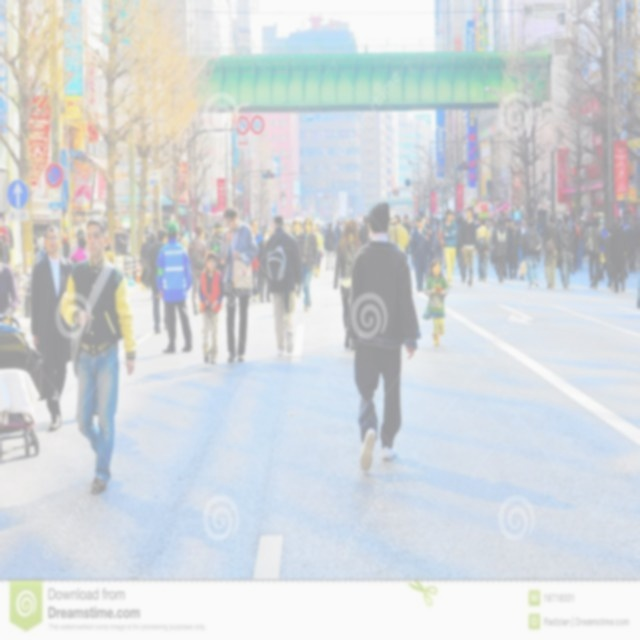pessoa: (58, 212, 138, 497), (346, 199, 423, 475), (27, 223, 74, 432), (219, 201, 261, 364), (260, 212, 304, 359), (155, 220, 195, 356), (332, 217, 365, 356), (138, 228, 169, 336), (197, 250, 225, 364), (421, 257, 451, 347), (104, 220, 158, 268), (296, 215, 318, 313), (186, 222, 207, 318), (0, 238, 21, 326), (457, 205, 478, 289), (518, 218, 542, 288), (542, 213, 562, 289), (583, 216, 603, 290), (440, 206, 458, 288), (410, 214, 428, 294), (558, 212, 576, 290), (608, 217, 626, 294), (490, 216, 510, 284), (256, 228, 272, 304), (250, 218, 264, 302), (514, 216, 532, 281), (30, 225, 54, 268), (475, 216, 490, 284), (615, 212, 630, 280), (291, 218, 303, 297), (420, 217, 438, 268), (388, 212, 410, 252), (68, 227, 92, 261), (602, 224, 614, 289), (624, 220, 638, 275), (507, 218, 519, 280), (568, 234, 584, 278), (323, 221, 337, 271), (70, 233, 90, 267), (455, 213, 465, 281), (534, 212, 546, 268), (570, 209, 596, 234), (313, 226, 325, 279), (598, 218, 608, 280), (211, 220, 226, 258), (474, 214, 496, 238), (438, 216, 448, 268), (570, 224, 580, 274), (434, 218, 444, 268), (176, 223, 192, 253), (139, 233, 151, 270), (358, 213, 371, 247), (61, 232, 78, 258), (408, 219, 417, 268), (313, 221, 328, 249), (200, 222, 214, 252), (0, 232, 12, 266), (329, 216, 346, 238), (283, 218, 303, 236), (486, 242, 497, 272), (401, 213, 412, 236), (258, 223, 274, 236), (0, 239, 7, 268), (635, 276, 640, 311), (352, 218, 365, 230), (504, 216, 511, 228), (556, 216, 563, 226), (474, 250, 479, 258)
